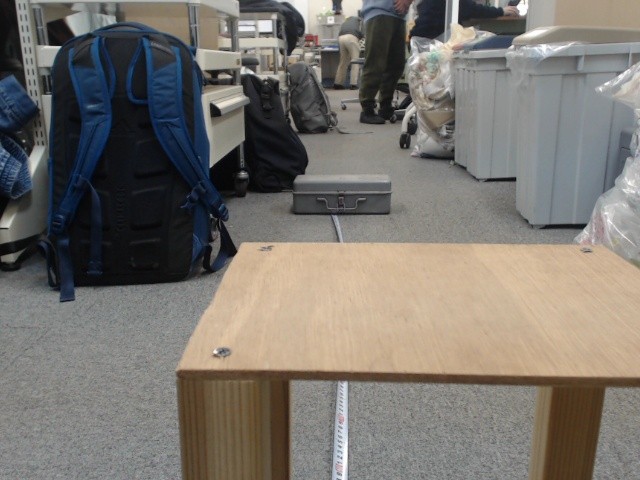desk: (260, 147, 487, 400)
